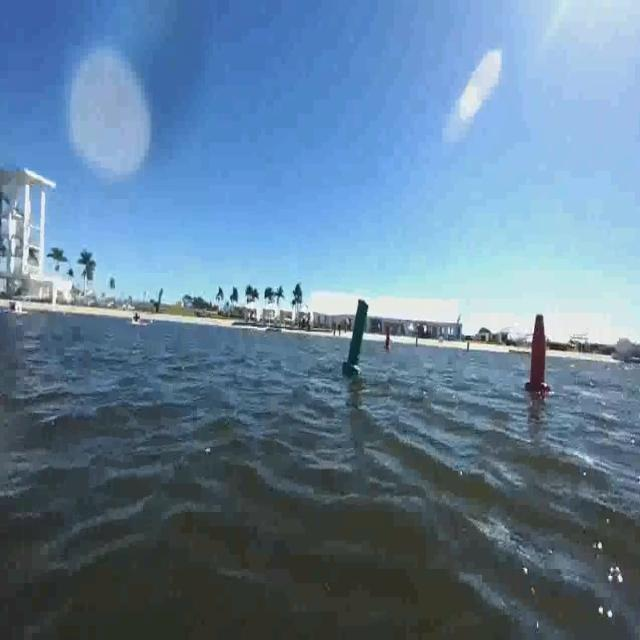green-column-buoy: (344, 297, 372, 376)
red-column-buoy: (525, 312, 551, 394), (384, 326, 393, 353)
